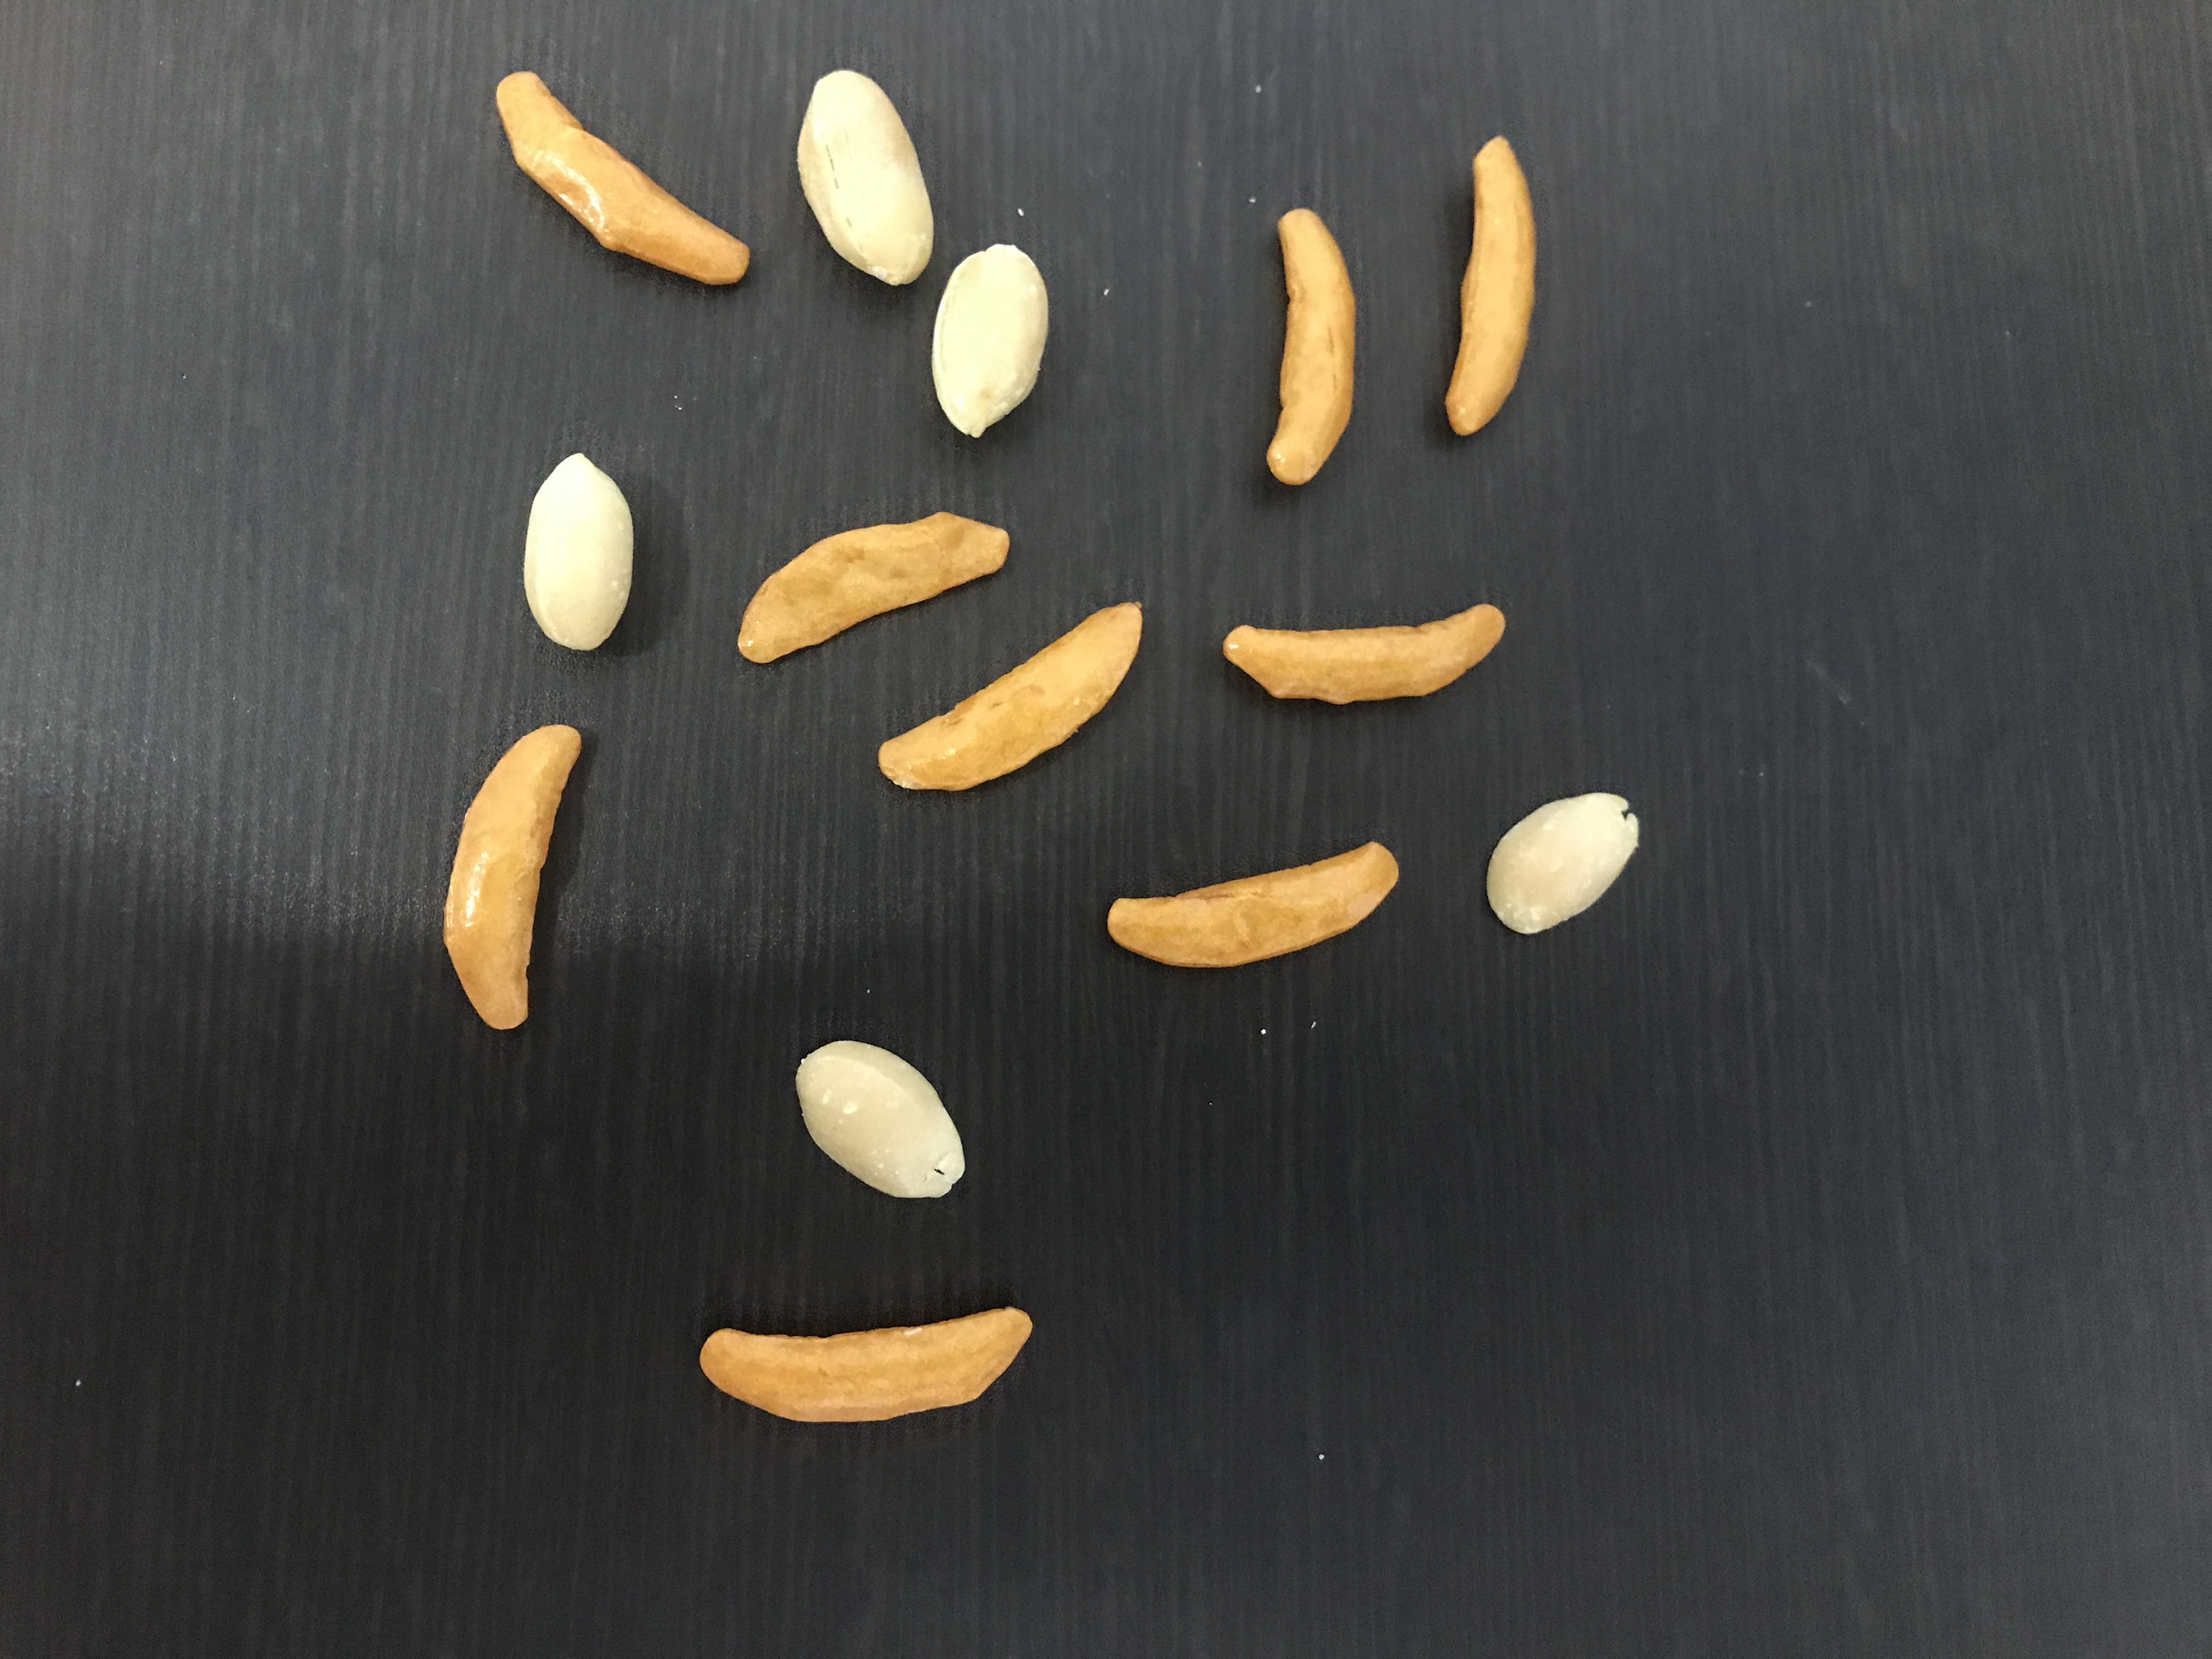peanut: (787, 61, 948, 289), (784, 1032, 974, 1204), (512, 446, 653, 659), (921, 237, 1054, 448), (1480, 788, 1649, 939)
